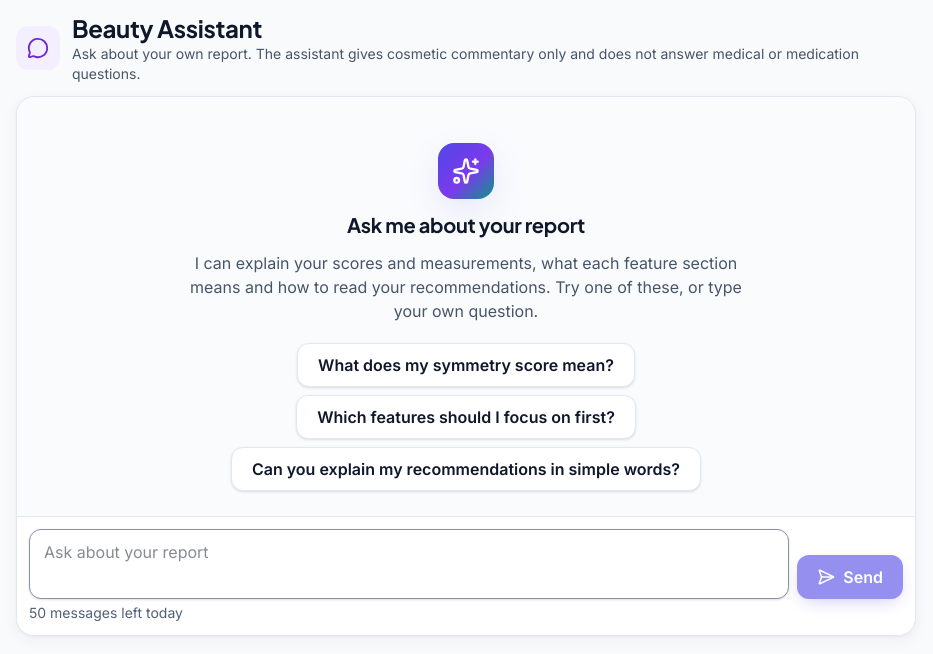
Test: The chat screen › explains what to ask when there is no conversation yet (AC10.1.5)
Expected: the element with test id "chat-empty" shows "Ask me about your report", [347,212,585,237]
Expected: the element with test id "chat-empty" shows "explain your scores", [190,253,742,321]
Click the button with test id "chat-suggestion-0" at (466, 365), box [297,343,635,387]
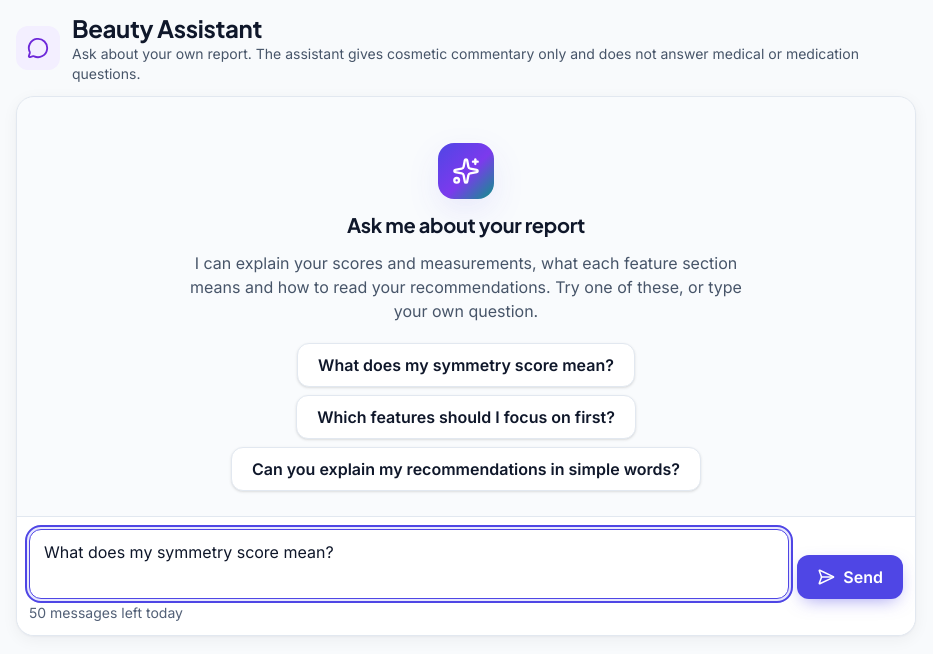
Now the text box with test id "chat-input" holds "What does my symmetry score mean?", box [29,529,789,599]
